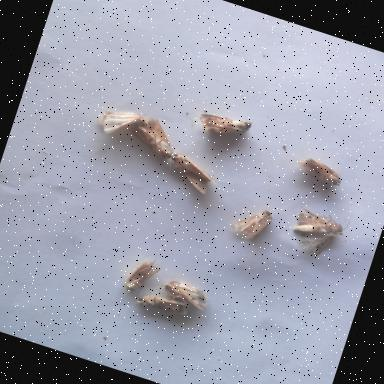abw: (118, 108, 180, 165), (188, 100, 258, 150), (286, 148, 354, 198), (162, 149, 224, 199), (134, 282, 199, 324), (94, 98, 148, 147), (118, 250, 168, 302), (226, 199, 278, 248), (156, 275, 215, 315)
